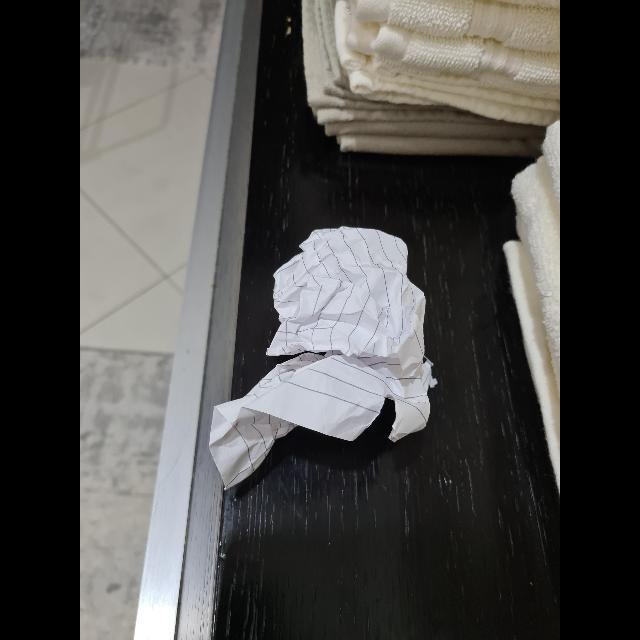scrap_paper: (209, 225, 429, 483)
